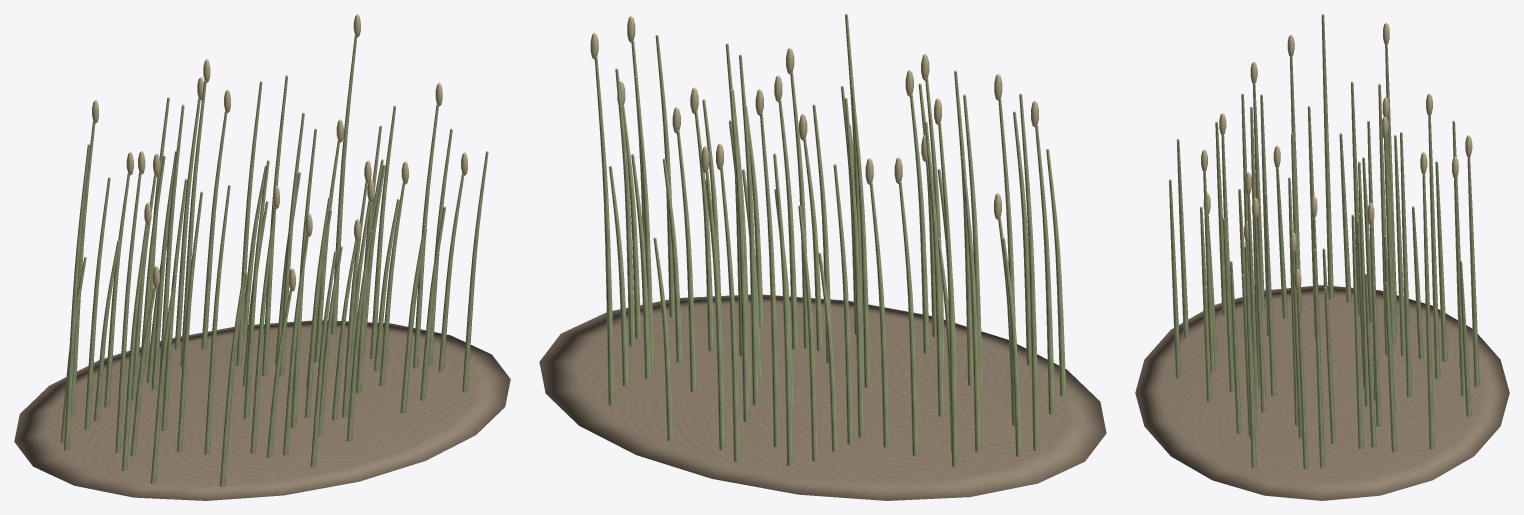
The model's file is exotic-wildlife-hd-reed-bed-60a4225a__30231.glb.
The picture shows the model from 3 angles, left to right: view 1: azimuth 30°, elevation 25°; view 2: azimuth 150°, elevation 25°; view 3: azimuth 270°, elevation 25°; orthographic projection. The views are drawn at different scales.
Visible parts, largest first — view 1: reed-bed; view 2: reed-bed; view 3: reed-bed.
Boxes of the visible parts, <box> form: reed-bed: <box>14,14,510,500</box>; reed-bed: <box>539,14,1106,500</box>; reed-bed: <box>1135,14,1509,500</box>.
Bounding box in the file's own units: 3 × 2.06 × 2.2.
Materials: 3 (3 with a texture image).
